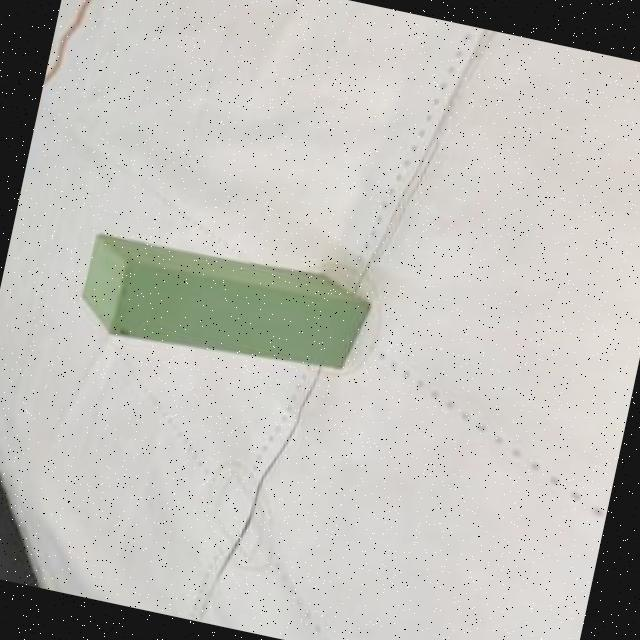greenbox: (72, 225, 375, 388)
